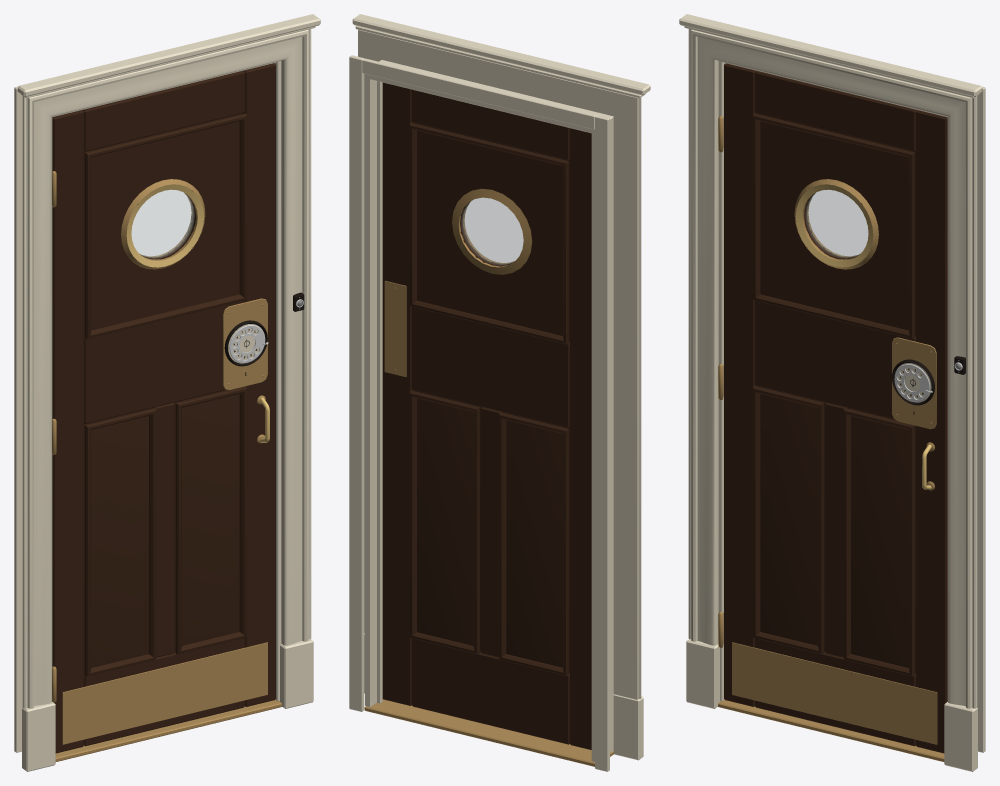
The model's file is booth_door.glb.
The picture shows the model from 3 angles, left to right: view 1: azimuth 30°, elevation 25°; view 2: azimuth 150°, elevation 25°; view 3: azimuth 330°, elevation 25°; orthographic projection.
Visible parts, largest first — view 1: IA_booth_door, booth_door_casing, IA_rotary_dial; view 2: IA_booth_door, booth_door_casing; view 3: IA_booth_door, booth_door_casing, IA_rotary_dial.
Part boxes in pixels (x1=…): IA_booth_door: x1=52, y1=63, x2=275, y2=753; booth_door_casing: x1=14, y1=14, x2=320, y2=771; IA_rotary_dial: x1=229, y1=325, x2=265, y2=363; IA_booth_door: x1=382, y1=82, x2=591, y2=749; booth_door_casing: x1=349, y1=14, x2=650, y2=771; IA_booth_door: x1=723, y1=63, x2=947, y2=753; booth_door_casing: x1=679, y1=14, x2=985, y2=771; IA_rotary_dial: x1=894, y1=364, x2=930, y2=402.
Size of the model in its own units: 1 by 2.21 by 0.161.
